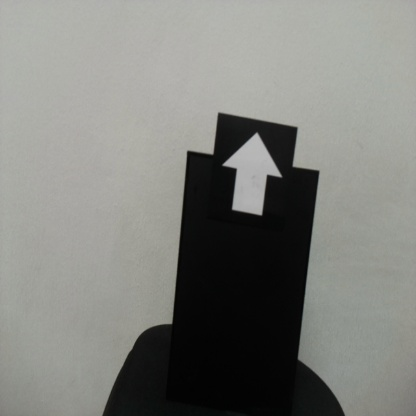id_1: (217, 121, 294, 240)
